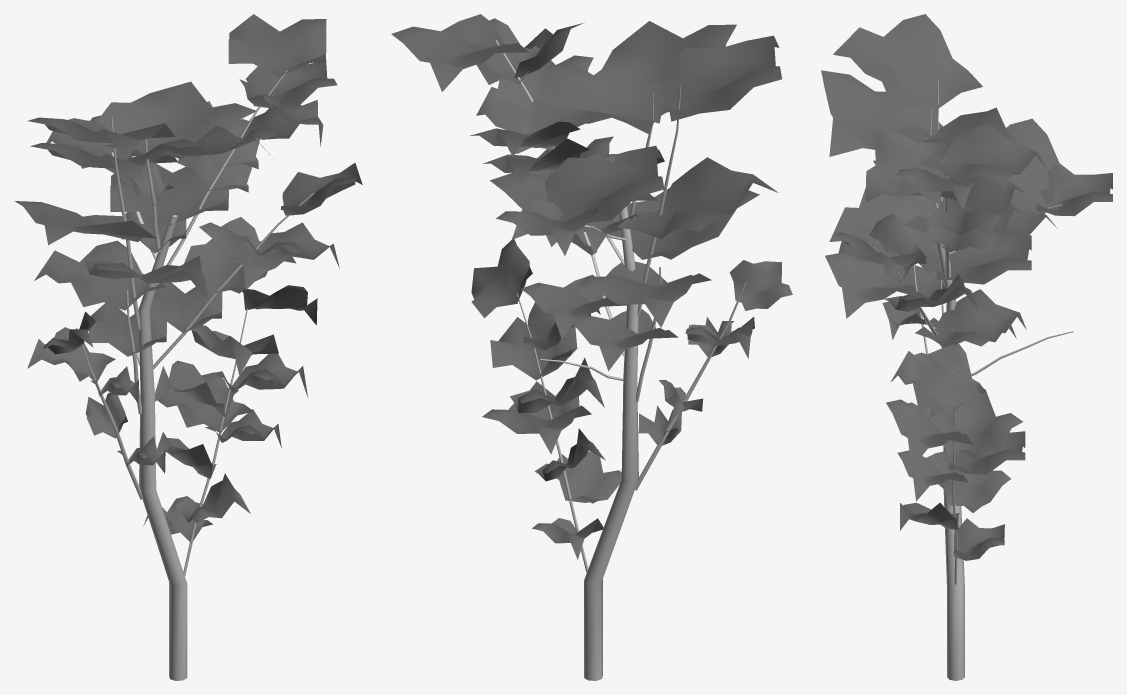
File: CombinedTree.fbx
The picture shows the model from 3 angles, left to right: view 1: azimuth 30°, elevation 25°; view 2: azimuth 150°, elevation 25°; view 3: azimuth 270°, elevation 25°; orthographic projection. The views are drawn at different scales.
Parts seen in each view (by area): view 1: tree_stem012; view 2: tree_stem012; view 3: tree_stem012.
Part boxes in pixels (left/top/right/bottom): tree_stem012: left=15, top=14, right=362, bottom=680; tree_stem012: left=391, top=14, right=792, bottom=680; tree_stem012: left=821, top=14, right=1112, bottom=680.
Bounding box in the file's own units: 41.74 × 72.32 × 32.35.
